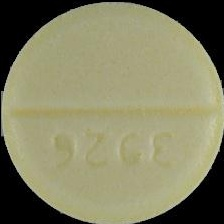64725-3926: (0, 0, 224, 224)
